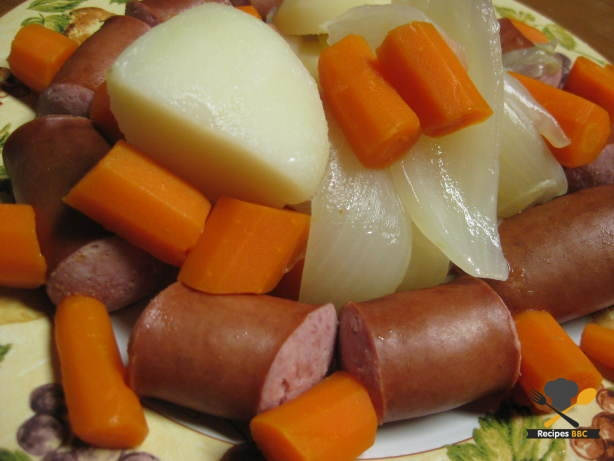boiled potatoes: (107, 2, 342, 215)
